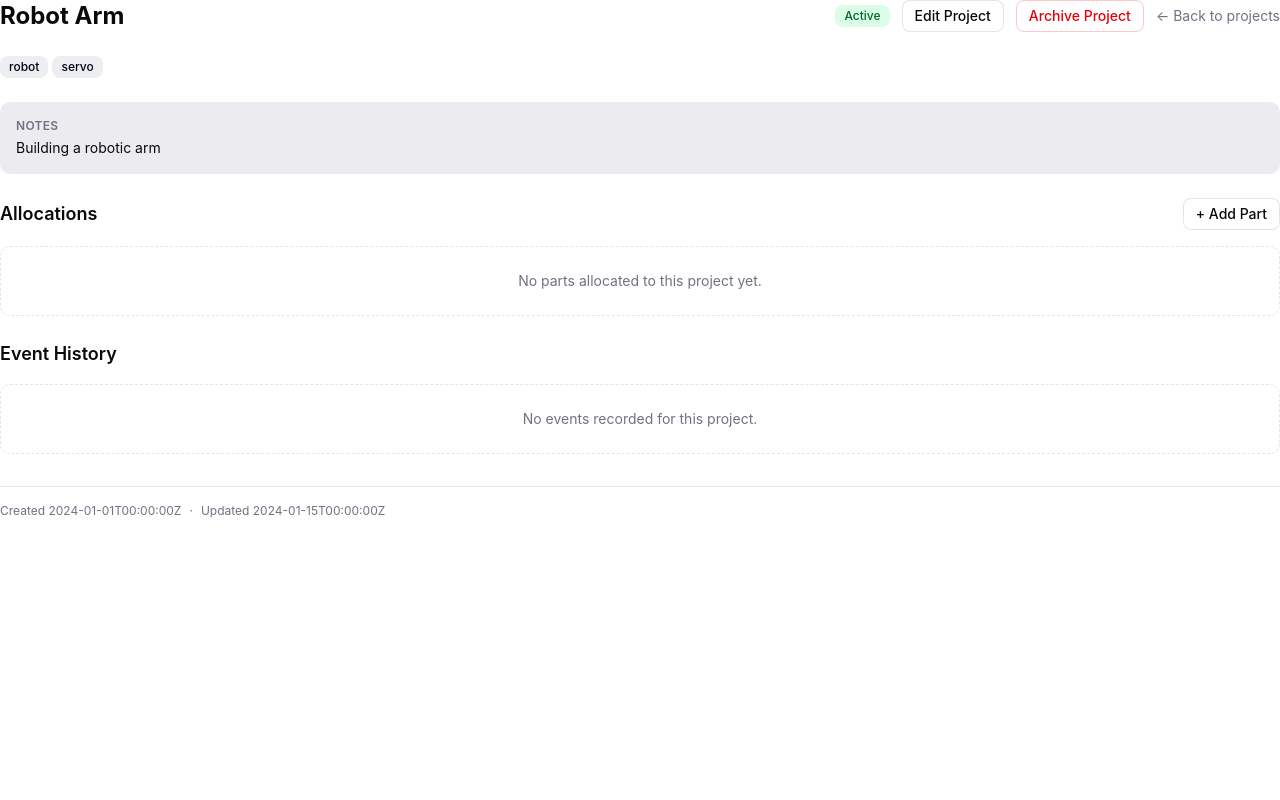
Scenario: ProjectDetailClient — Edit Project dialog › pre-fills the name input with the project name
The width and height of the screenshot is (1280, 800).
Check: the heading "Robot Arm" is shown, box x1=0 y1=0 x2=124 y2=32
Click the button "Edit Project" at x=953, y=16, box x1=902 y1=0 x2=1004 y2=32
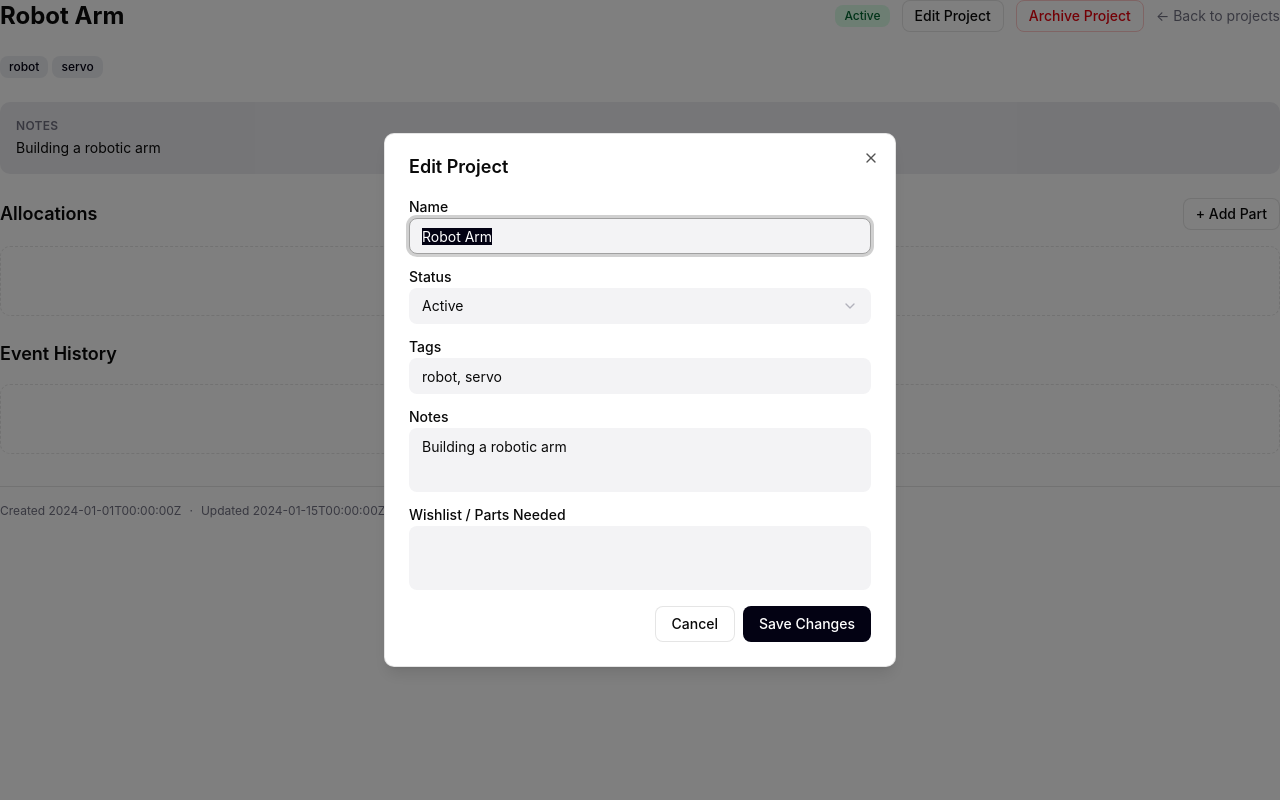
Check: the field labelled "Name" holds "Robot Arm", box x1=409 y1=218 x2=871 y2=254
